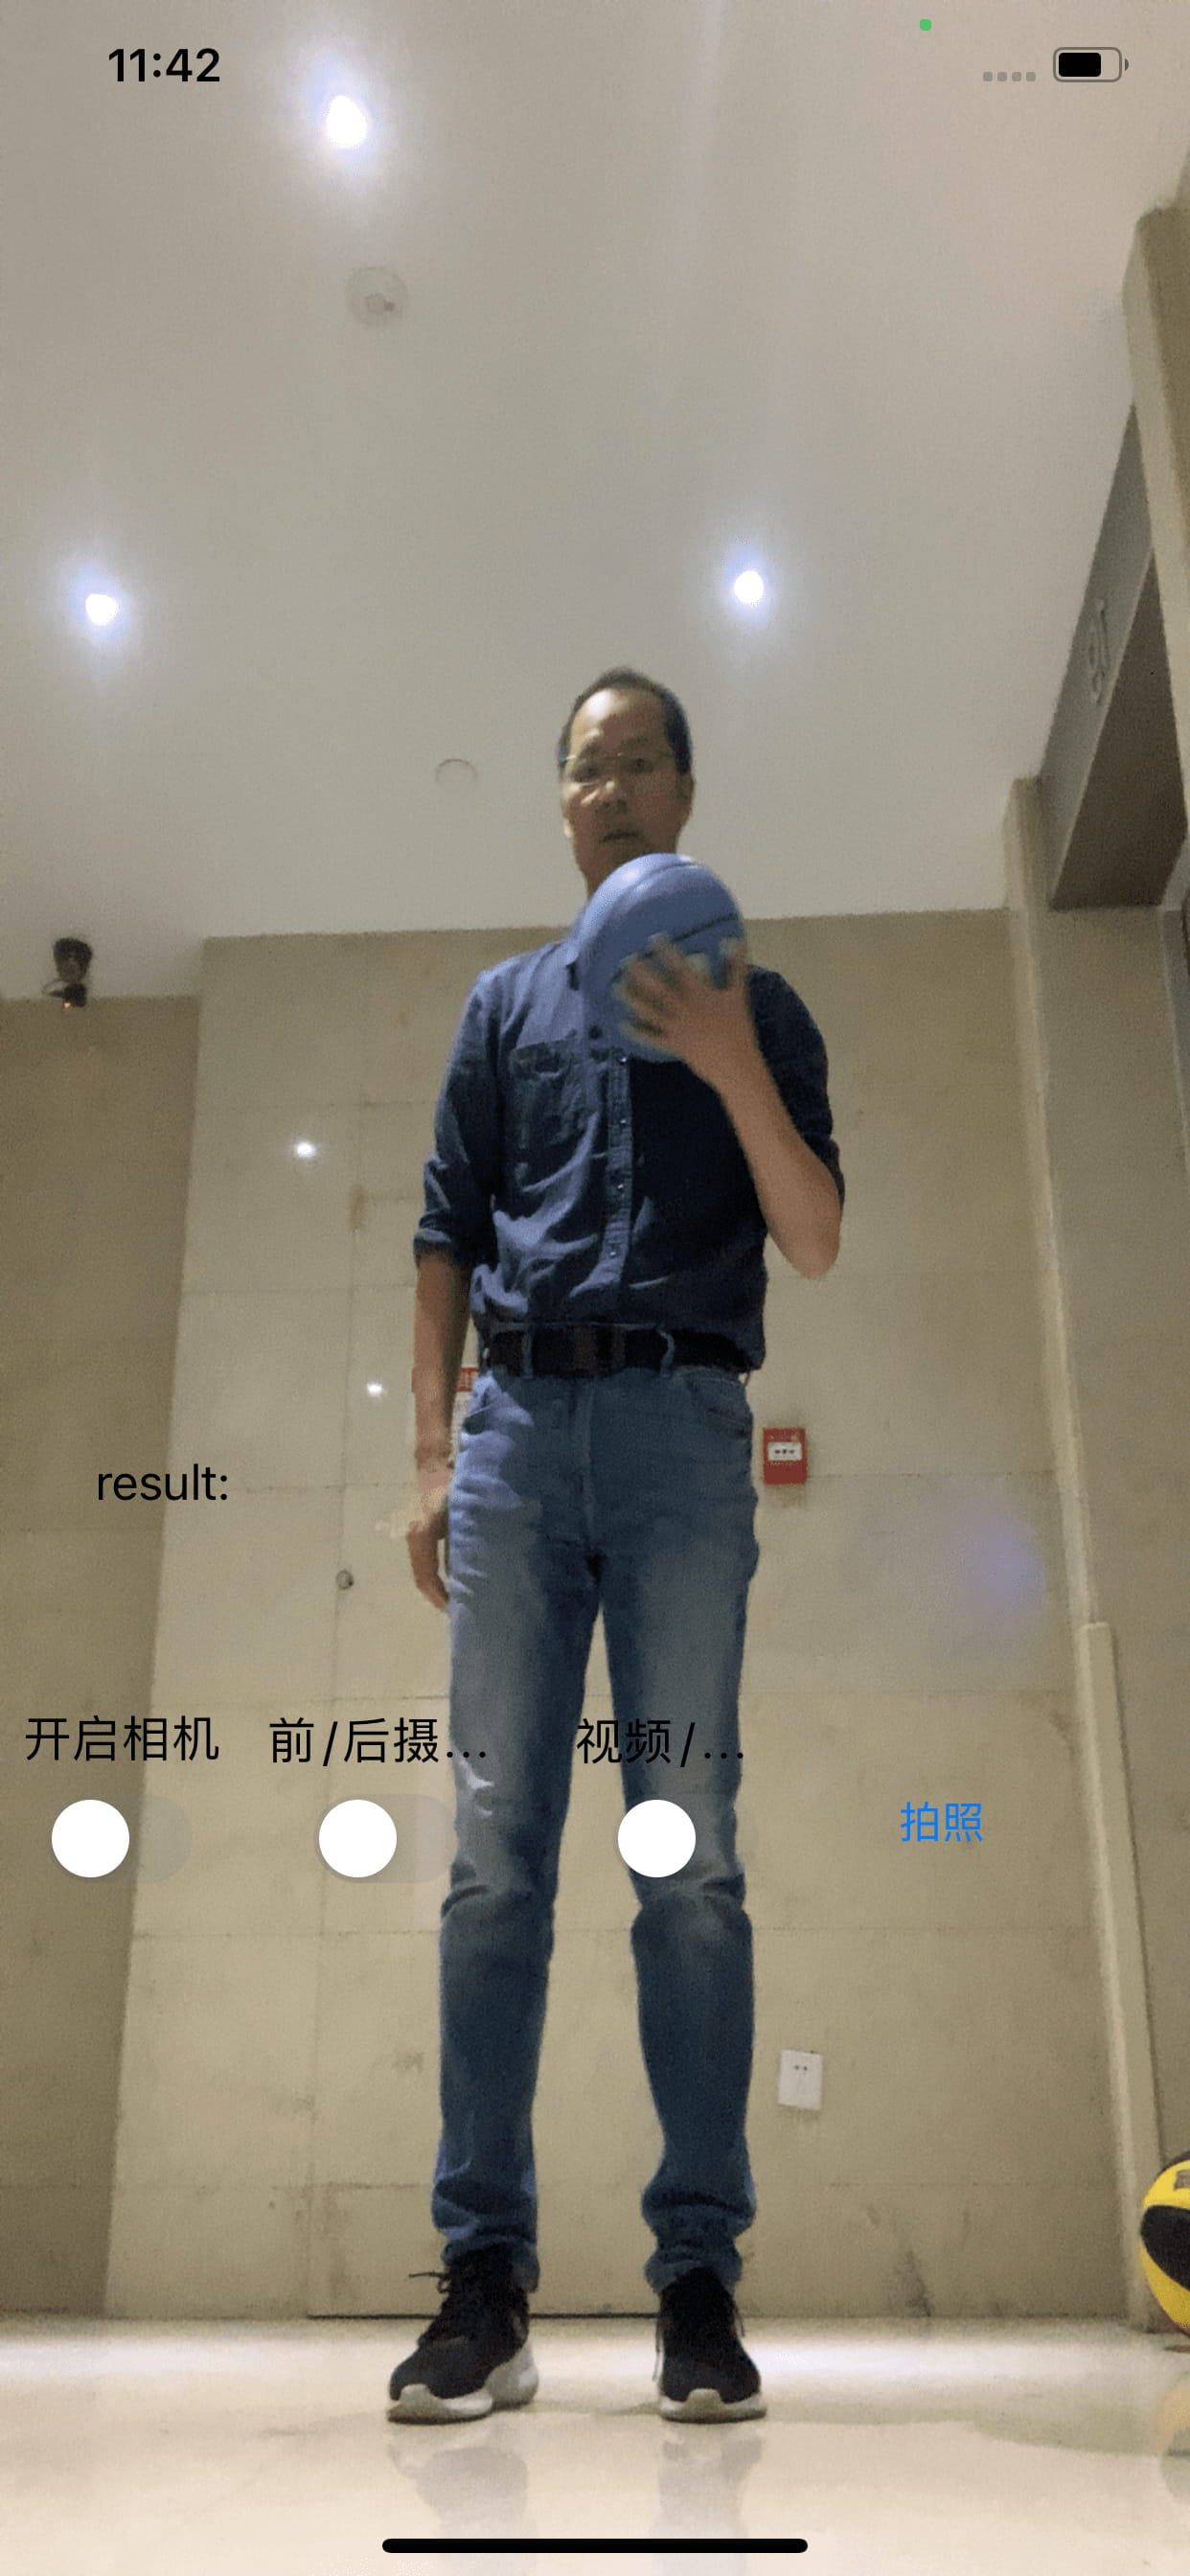ball: (580, 849, 753, 1068)
